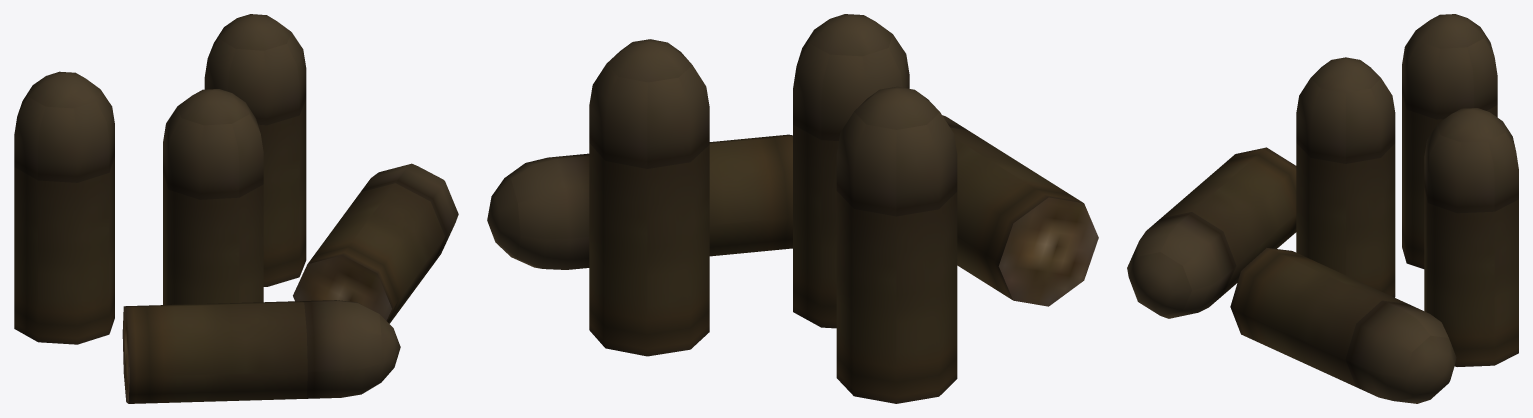
File: ammo_pistol_loose_5pcs_mp_1.obj
3 renders of one model, left to right at view 1: azimuth 30°, elevation 25°; view 2: azimuth 150°, elevation 25°; view 3: azimuth 270°, elevation 25°, orthographic. The views are drawn at different scales.
Parts seen in each view (by area): view 1: ammo_pistol_loose_5pcs_mp_1; view 2: ammo_pistol_loose_5pcs_mp_1; view 3: ammo_pistol_loose_5pcs_mp_1.
Boxes of the visible parts, x1,y1,x2,y2 form: ammo_pistol_loose_5pcs_mp_1: (14, 14, 458, 403); ammo_pistol_loose_5pcs_mp_1: (487, 14, 1098, 403); ammo_pistol_loose_5pcs_mp_1: (1127, 14, 1518, 403).
Bounding box in the file's own units: 2.08 × 1.18 × 1.77.
1 material, 1 textured.
